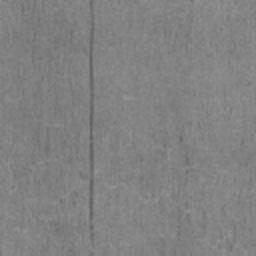Scratches: (89, 0, 95, 256)
